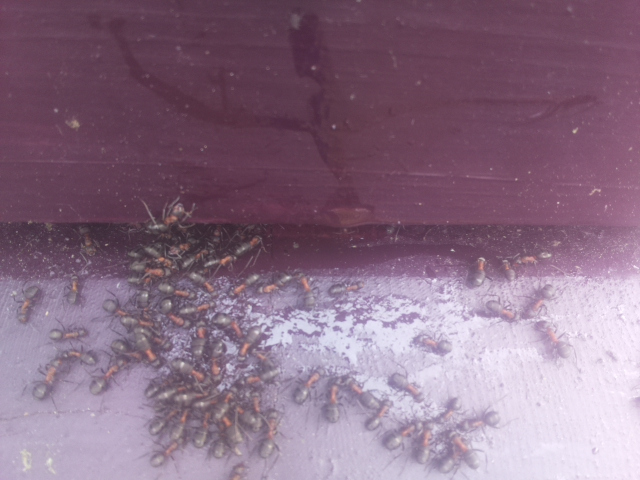ant: (431, 422, 491, 480), (24, 346, 74, 411), (198, 231, 265, 277), (137, 196, 199, 241), (145, 420, 192, 478), (85, 347, 134, 402), (205, 408, 248, 463), (377, 417, 432, 457), (142, 396, 189, 442), (533, 316, 578, 364), (381, 366, 430, 407), (94, 297, 141, 335), (342, 374, 385, 413), (291, 359, 323, 409), (11, 282, 44, 327), (163, 356, 209, 387), (191, 402, 217, 456), (236, 320, 265, 364), (209, 310, 246, 340), (258, 413, 284, 455), (183, 269, 220, 298), (465, 252, 491, 293), (296, 268, 320, 311), (364, 397, 393, 432), (417, 332, 456, 358), (412, 422, 435, 466), (483, 297, 518, 325), (74, 218, 99, 257), (456, 408, 500, 430), (327, 275, 369, 298), (528, 282, 554, 319), (244, 361, 279, 387), (46, 324, 91, 344), (156, 297, 186, 327), (64, 270, 84, 309), (233, 271, 258, 297), (435, 396, 460, 421), (326, 383, 341, 424), (518, 248, 554, 264), (224, 466, 246, 480)
